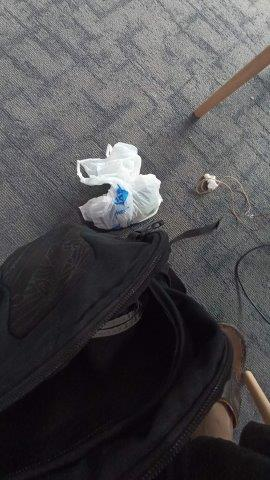plastik: (78, 143, 163, 229)
